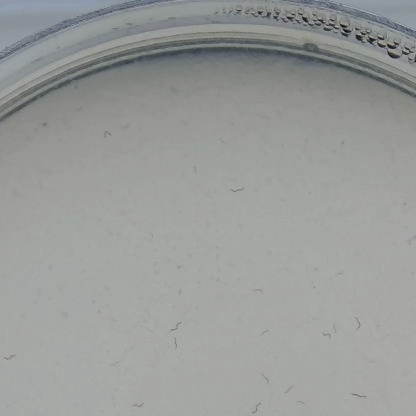worm: (163, 315, 184, 334), (225, 181, 248, 195), (165, 336, 184, 352), (347, 388, 368, 402), (97, 125, 117, 139), (349, 315, 365, 332), (0, 350, 18, 362), (247, 285, 268, 295), (282, 382, 296, 397), (258, 371, 272, 386), (403, 231, 416, 246), (321, 329, 334, 343), (333, 268, 347, 280), (295, 400, 313, 409), (133, 401, 145, 413), (329, 320, 340, 333), (259, 328, 273, 338), (107, 360, 123, 368)
